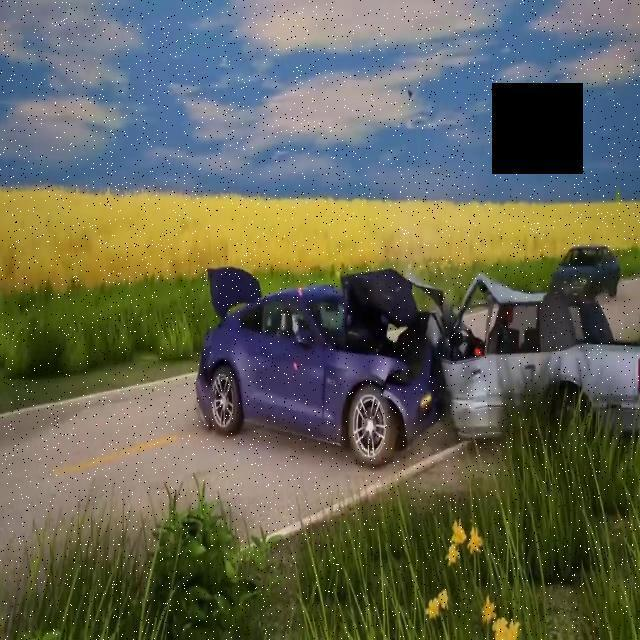multiple_accident: (207, 221, 636, 443)
